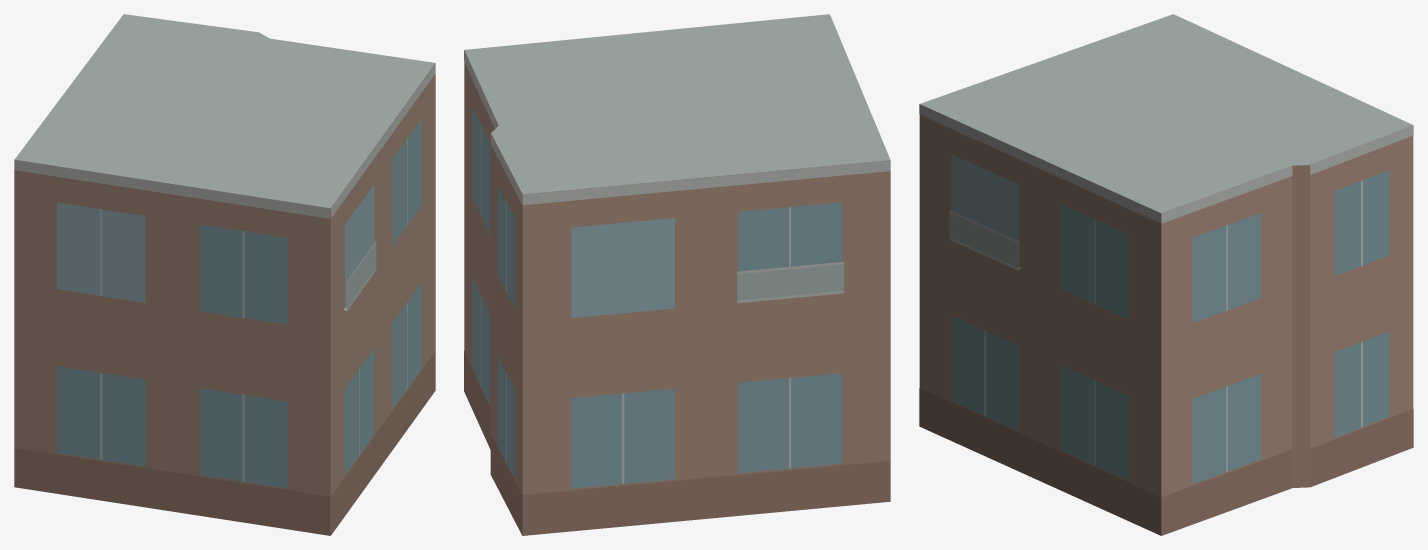
The model's file is survey-upis-32888196.glb.
3 views of the same model, side by side, from view 1: azimuth 30°, elevation 25°; view 2: azimuth 150°, elevation 25°; view 3: azimuth 270°, elevation 25° (orthographic). The views are drawn at different scales.
Visible parts, largest first — view 1: survey-upis-32888196.tmp; view 2: survey-upis-32888196.tmp; view 3: survey-upis-32888196.tmp.
Boxes of the visible parts, x1=… form: survey-upis-32888196.tmp: x1=14, y1=14, x2=435, y2=535; survey-upis-32888196.tmp: x1=464, y1=14, x2=890, y2=535; survey-upis-32888196.tmp: x1=919, y1=14, x2=1413, y2=535.
Size of the model in its own units: 10.09 by 7.6 by 10.56.
